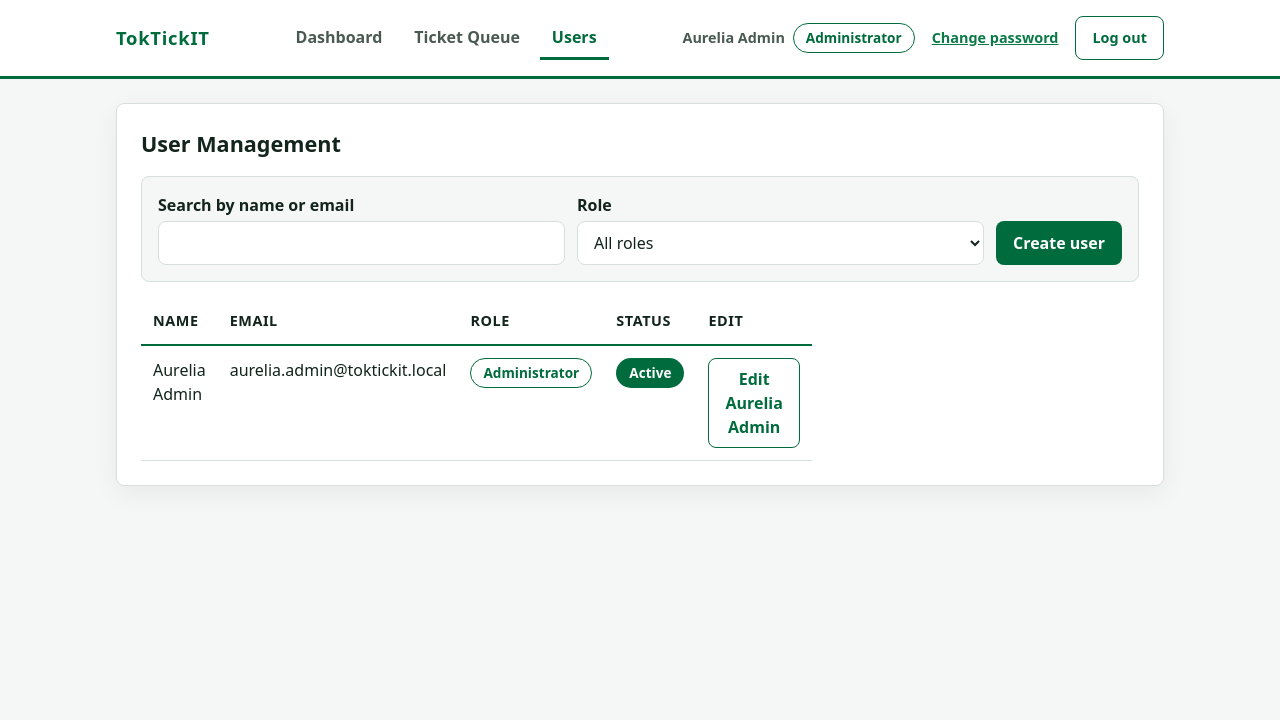
User Management — editing › disables Role and Active on your own account, and says why
Check: the heading "User Management" is shown, box 141,129 -> 341,158
Click the button "Edit Aurelia Admin". click: (754, 403)
box: 708,358 -> 800,448
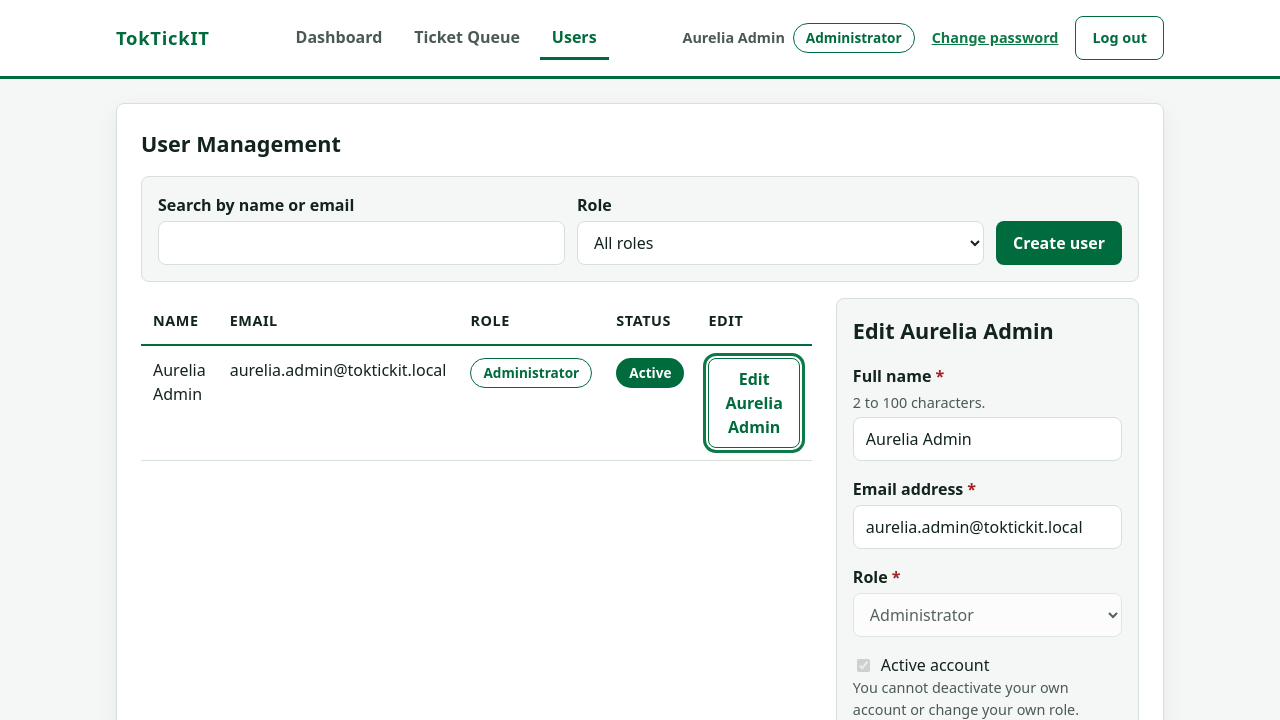
Check: the dropdown labelled "Role*" is disabled, box 853,593 -> 1122,637
Check: the checkbox labelled "Active account" is disabled, box 857,659 -> 870,672
Check: the text "You cannot deactivate your own account or change your own role." is shown, box 853,678 -> 1079,719
